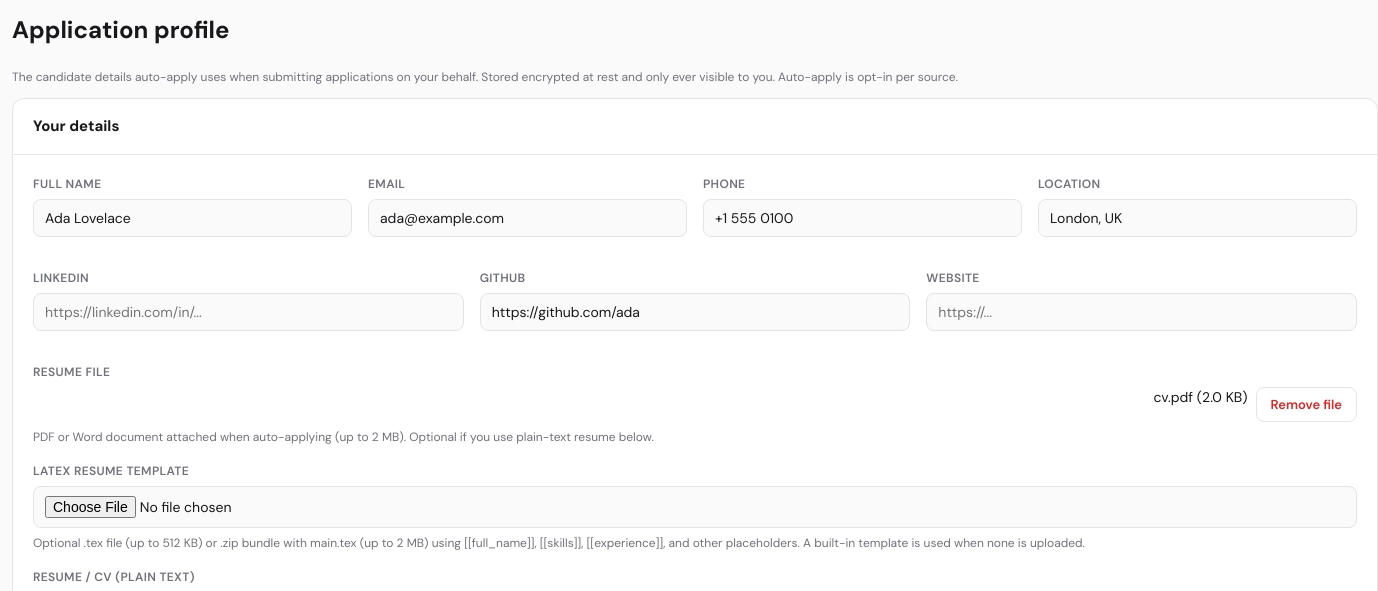
Test: ProfilePage files and structured editing › surfaces an error when removing a resume fails
The image size is (1378, 591).
Click the button "Remove file". click: x=1306, y=404
box: [1256,386,1357,422]
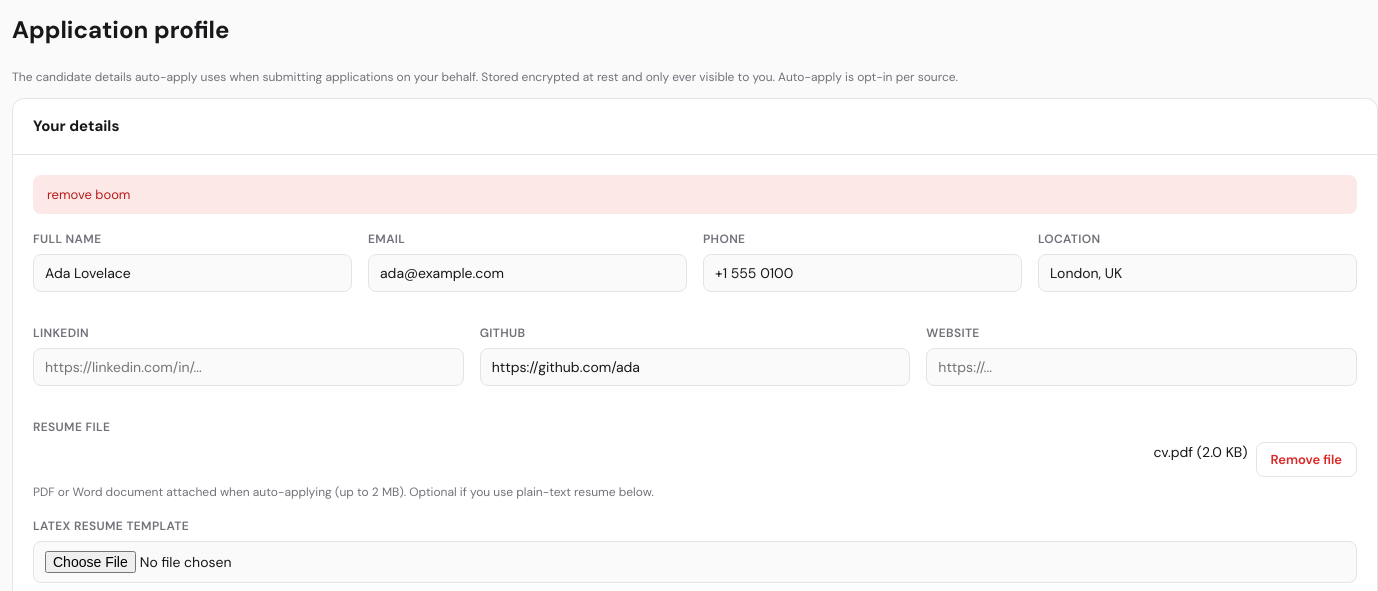
Check: the text "remove boom" is shown, box [33,174,1357,214]
